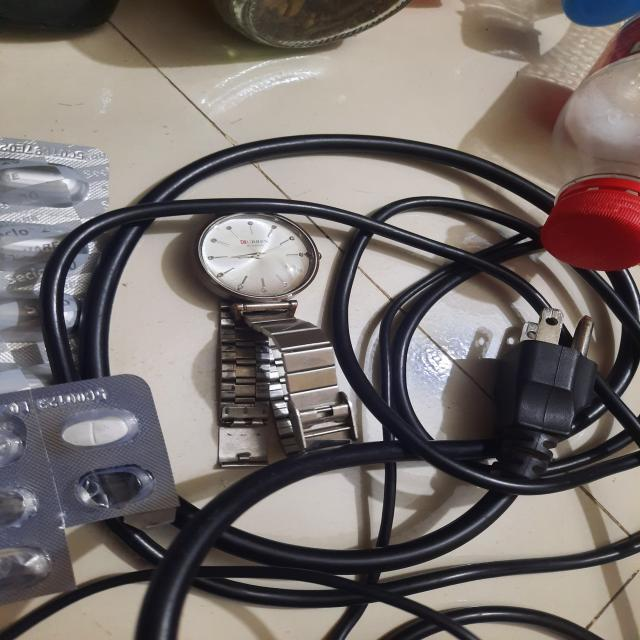Cable: (136, 114, 640, 640)
E-waste: (188, 200, 370, 428)
Medical Waste: (0, 142, 154, 568)
